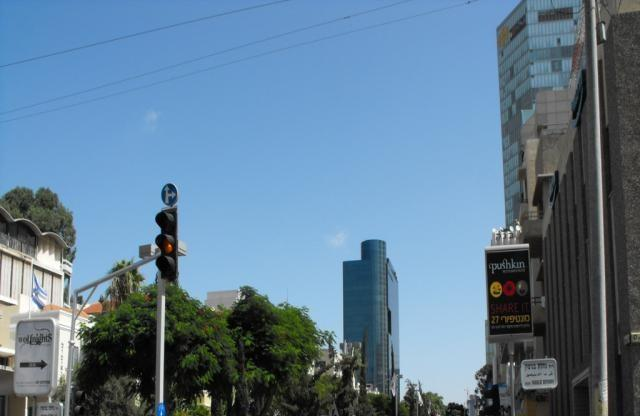yellow_light: (155, 208, 178, 279)
